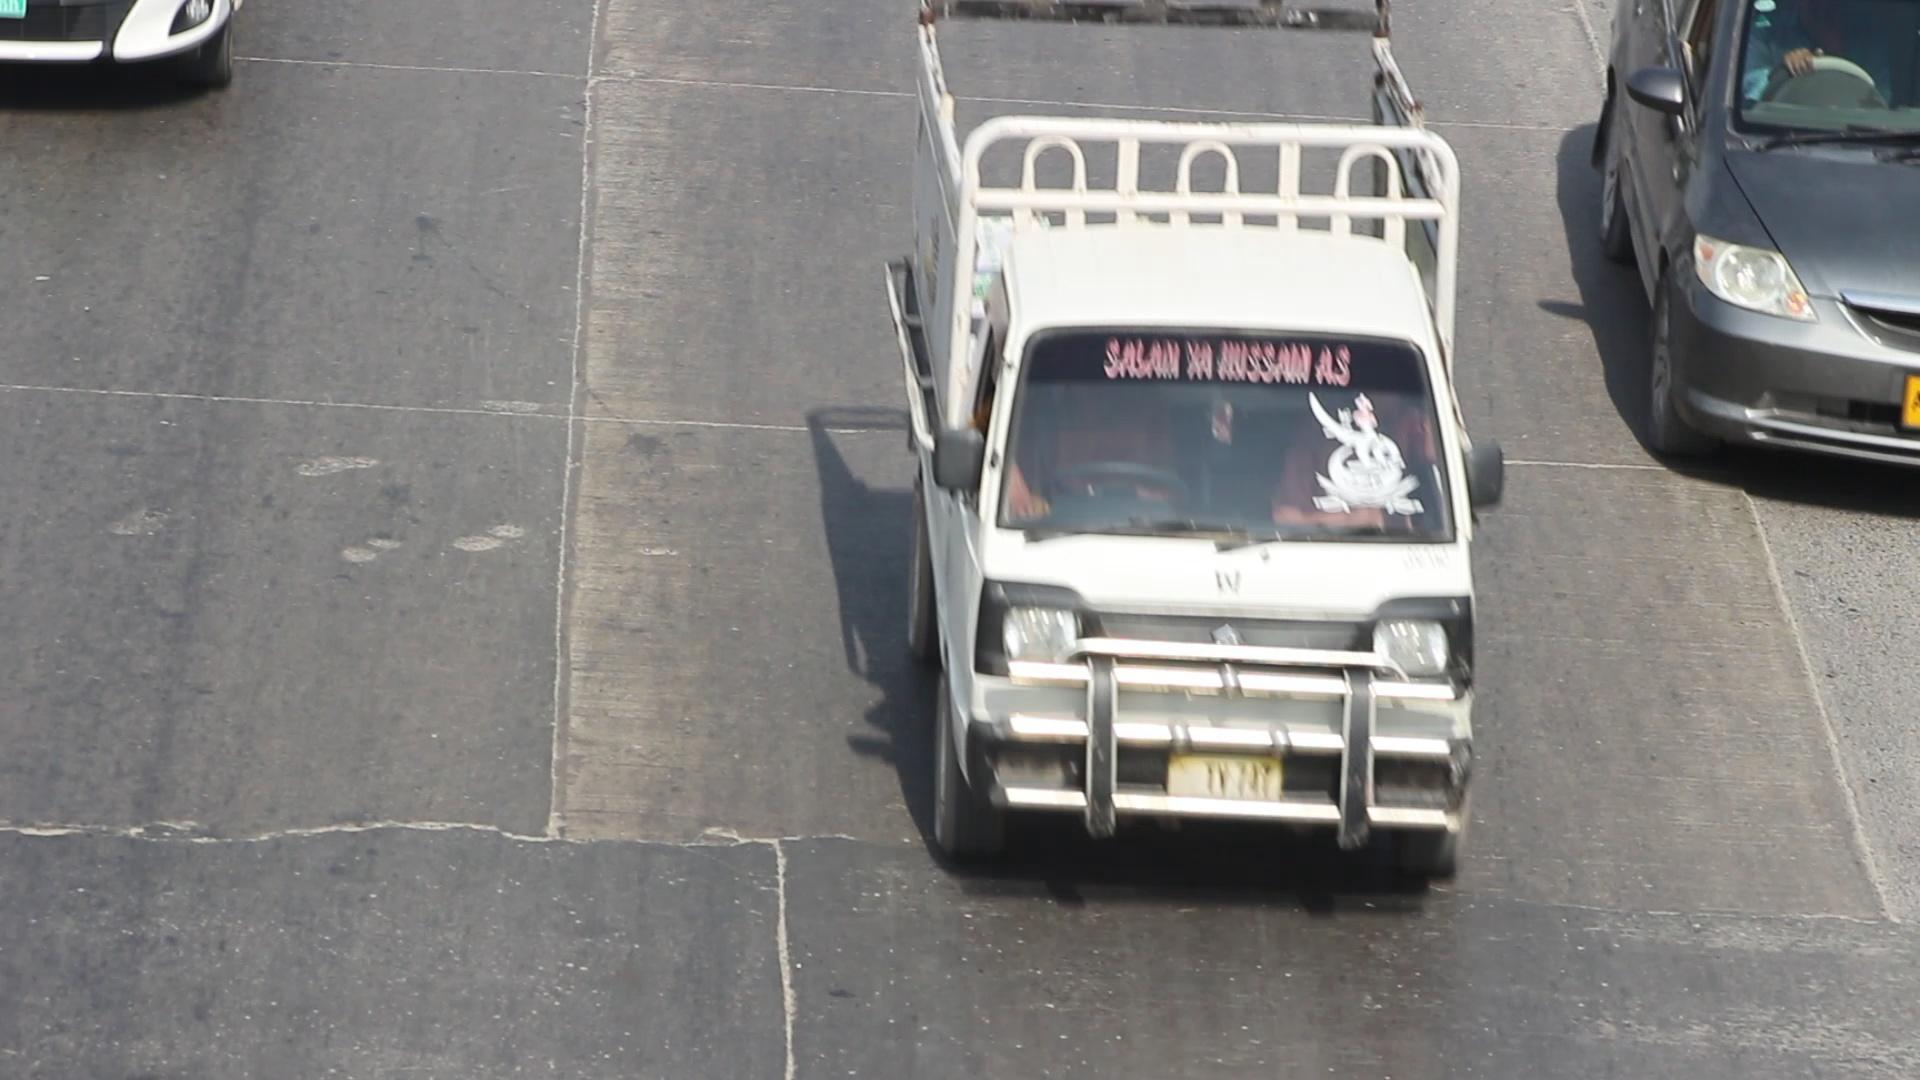windshield: (990, 336, 1470, 543)
